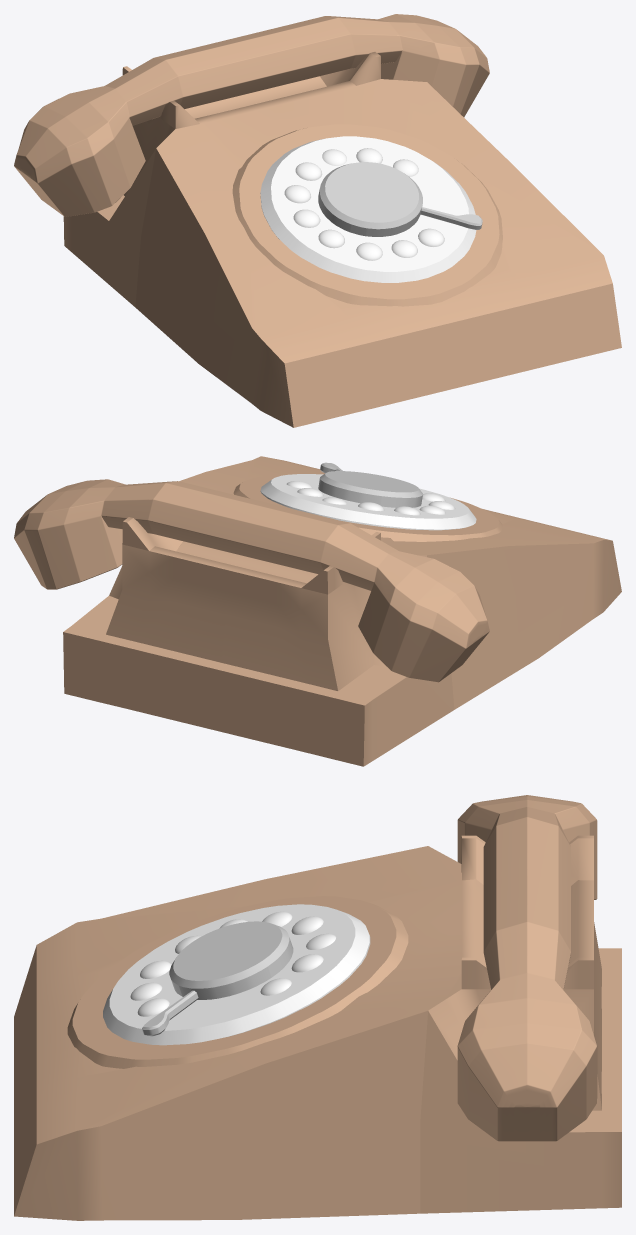
Rendered from rotary phone.fbx.
The picture shows the model from 3 angles, top to bottom: view 1: azimuth 30°, elevation 25°; view 2: azimuth 150°, elevation 25°; view 3: azimuth 270°, elevation 25°; orthographic projection. The views are drawn at different scales.
Parts seen in each view (by area): view 1: pSphere12; view 2: pSphere12; view 3: pSphere12.
Boxes of the visible parts, <box> form: pSphere12: <box>14,14,621,427</box>; pSphere12: <box>14,456,621,766</box>; pSphere12: <box>14,795,621,1220</box>.
Size of the model in its own units: 3.74 by 1.65 by 3.49.
